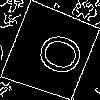O: (26, 26, 86, 79)
